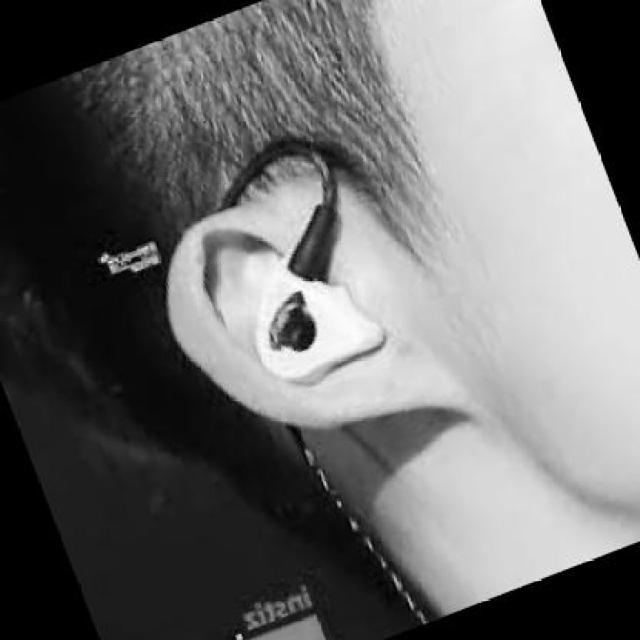earphone: (245, 185, 376, 369)
